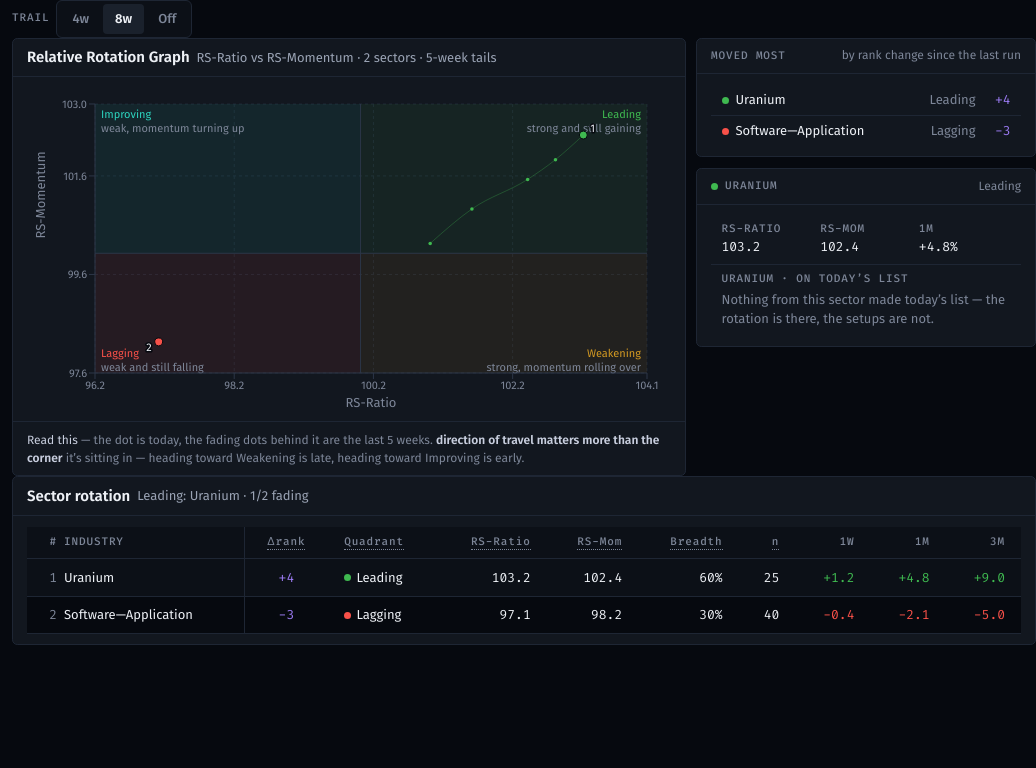
Test case: RotationView — rail › follows a pick made in the moved-most card
Step 1. Click the button "Software—Application Lagging -3" → {"x": 866, "y": 131}, box [711, 116, 1021, 146]
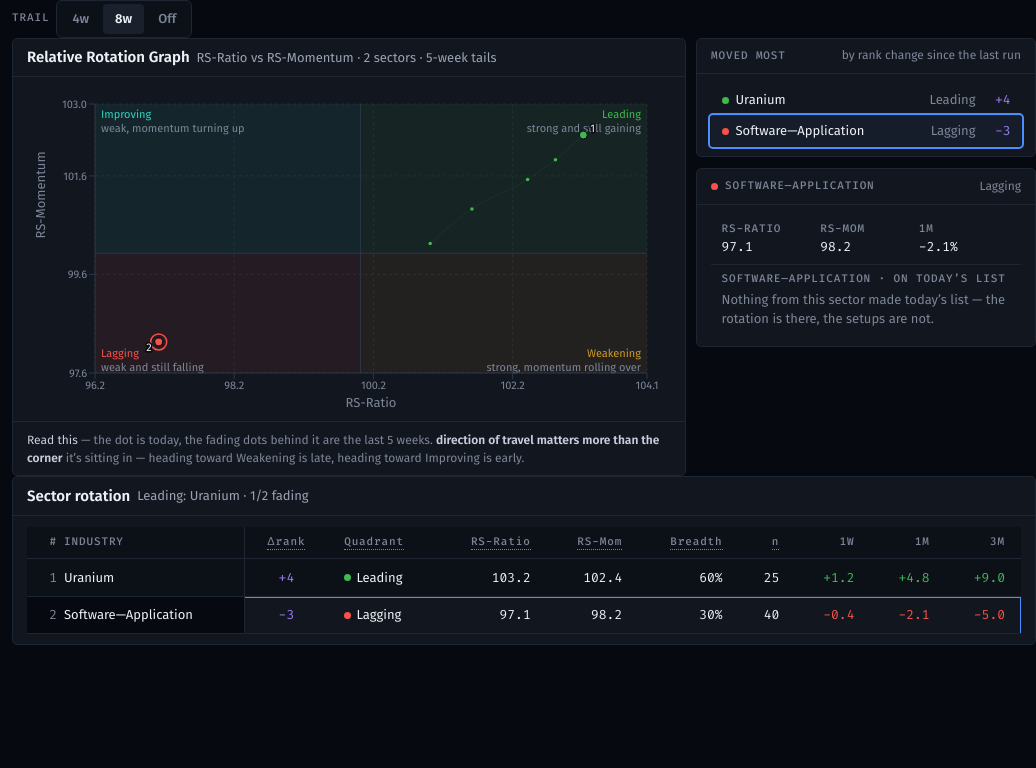
Now the text "97.1" is shown, box [722, 238, 753, 255]
